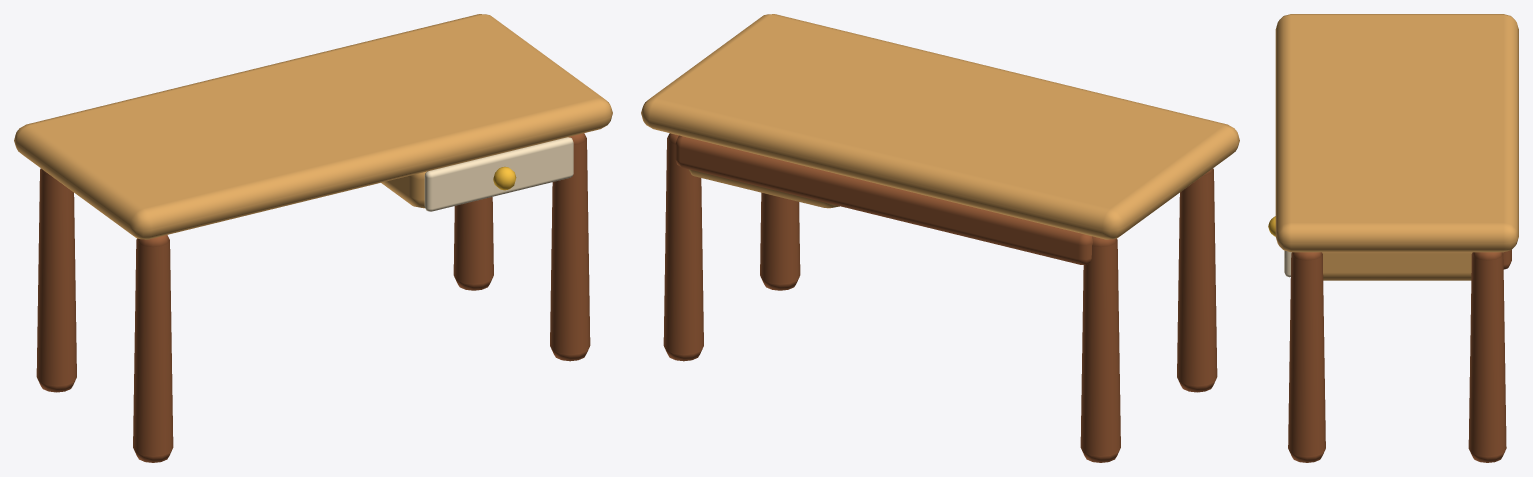
File: table.glb
3 renders of one model, left to right at view 1: azimuth 30°, elevation 25°; view 2: azimuth 150°, elevation 25°; view 3: azimuth 270°, elevation 25°, orthographic. The views are drawn at different scales.
Visible parts, largest first — view 1: Top, Leg-0.65-0.26, Leg-0.650.26, Leg0.65-0.26, DrawerFace, Leg0.650.26, Drawer; view 2: Top, Apron, Leg-0.650.26, Leg-0.65-0.26, Leg0.650.26, Leg0.65-0.26, Drawer; view 3: Top, Leg0.650.26, Leg0.65-0.26, Drawer.
Boxes of the visible parts, <box> form: Top: <box>14,14,612,239</box>; Leg-0.65-0.26: <box>133,235,173,462</box>; Leg-0.650.26: <box>36,168,76,392</box>; Leg0.65-0.26: <box>550,133,590,361</box>; DrawerFace: <box>424,137,573,211</box>; Leg0.650.26: <box>453,197,493,290</box>; Drawer: <box>381,171,426,208</box>; Top: <box>641,14,1239,239</box>; Apron: <box>675,135,1092,264</box>; Leg-0.650.26: <box>1080,236,1120,462</box>; Leg-0.65-0.26: <box>1177,168,1217,392</box>; Leg0.650.26: <box>663,133,703,361</box>; Leg0.65-0.26: <box>760,192,800,290</box>; Drawer: <box>689,169,839,208</box>; Top: <box>1275,14,1518,252</box>; Leg0.650.26: <box>1468,252,1506,462</box>; Leg0.65-0.26: <box>1288,252,1325,462</box>; Drawer: <box>1322,252,1472,280</box>.
Size of the model in its own units: 1.5 by 0.78 by 0.722.
